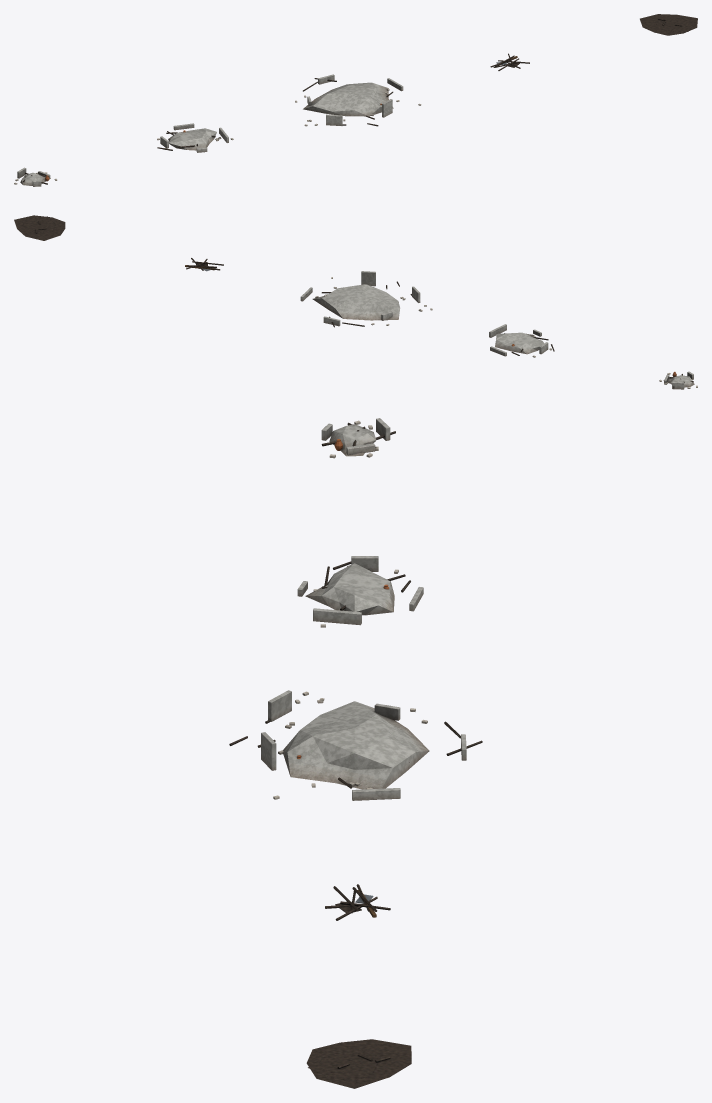
Rendered from ruins-modern.glb.
3 renders of one model, top to bottom at view 1: azimuth 30°, elevation 25°; view 2: azimuth 150°, elevation 25°; view 3: azimuth 270°, elevation 25°, orthographic. The views are drawn at different scales.
Parts seen in each view (by area): view 1: LOD0.002, LOD0.001, LOD0.004, LOD0; view 2: LOD0.002, LOD0.001, LOD0.004, LOD0; view 3: LOD0.002, LOD0.001, LOD0.004, LOD0.
Boxes of the visible parts, x1,y1,x2,y2 form: LOD0.002: (295, 74, 421, 126); LOD0.001: (157, 123, 233, 152); LOD0.004: (640, 14, 697, 35); LOD0: (14, 167, 57, 186); LOD0.002: (300, 271, 432, 327); LOD0.001: (489, 324, 554, 357); LOD0.004: (14, 215, 65, 240); LOD0: (659, 371, 697, 389); LOD0.002: (229, 690, 482, 800); LOD0.001: (297, 556, 423, 627); LOD0.004: (306, 1039, 411, 1088); LOD0: (321, 418, 395, 458).
Size of what is drawn, in the model's own units: 12.92 by 0.252 by 2.08.
1 material, 1 textured.
